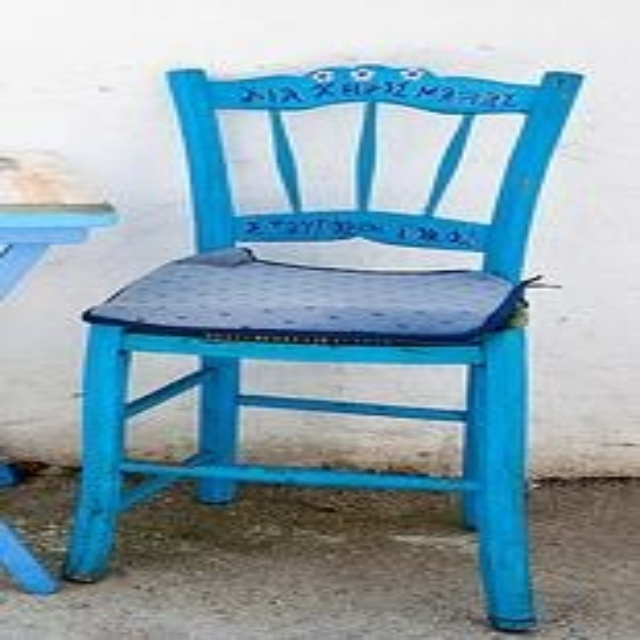obstacle: (66, 66, 578, 627)
